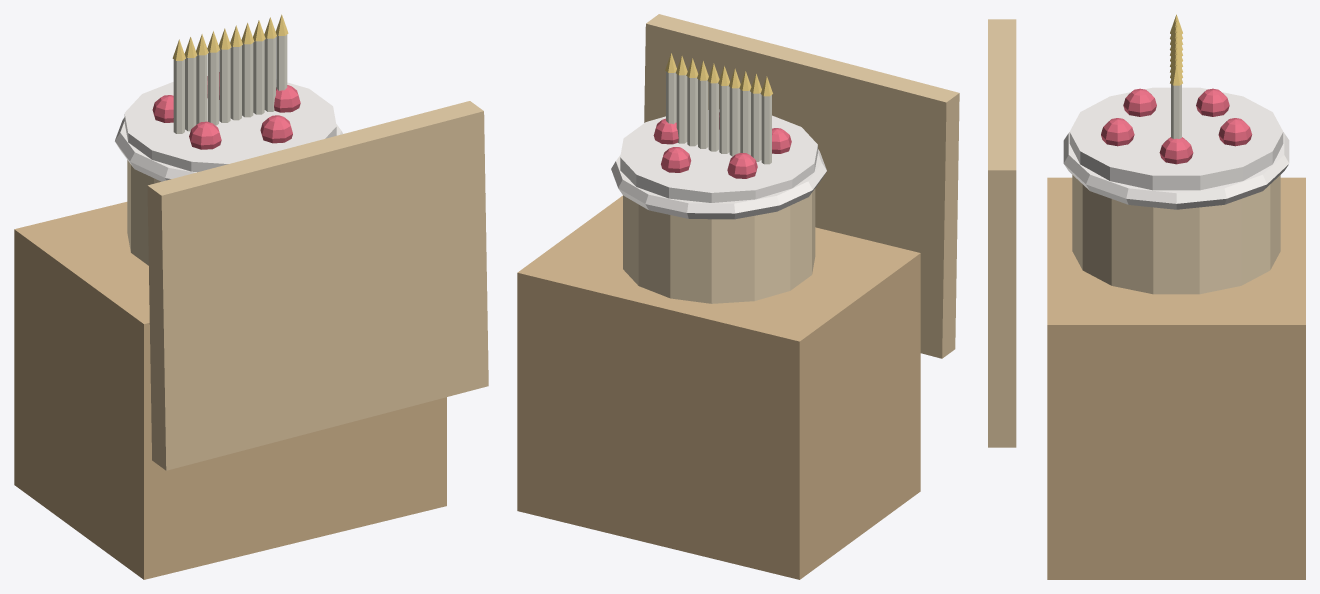
Rendered from cake_box_open.glb.
3 views of the same model, side by side, from view 1: azimuth 30°, elevation 25°; view 2: azimuth 150°, elevation 25°; view 3: azimuth 270°, elevation 25° (orthographic). The views are drawn at different scales.
Parts seen in each view (by area): view 1: BoxLid, BoxBody, CreamTop, Cake, CreamWave, Candle7, Candle4, Candle6, Candle5, Candle0, Candle8, Candle1 (+5 smaller); view 2: BoxBody, BoxLid, Cake, CreamTop, CreamWave, Candle3, Candle8, Candle0, Candle5, Candle6, Candle7, Candle4 (+5 smaller); view 3: BoxBody, Cake, CreamTop, BoxLid, CreamWave, Berry2, Berry3, Berry1, Berry4, Berry0, Candle9.
Part boxes in pixels (x1,y1,x2,y2): BoxLid: (147,101,488,470); BoxBody: (14,202,446,579); CreamTop: (124,79,336,172); Cake: (127,160,160,265); CreamWave: (115,117,343,181); Candle7: (253,40,264,114); Candle4: (219,48,230,122); Candle6: (242,43,253,117); Candle5: (230,45,241,120); Candle0: (173,59,184,133); Candle8: (264,37,275,111); Candle1: (185,57,196,131); BoxBody: (517,195,920,579); BoxLid: (644,14,959,358); Cake: (623,188,815,303); CreamTop: (620,109,817,202); CreamWave: (611,149,826,219); Candle3: (729,87,740,156); Candle8: (676,74,687,143); Candle0: (761,95,771,164); Candle5: (708,82,718,151); Candle6: (698,79,708,148); Candle7: (687,77,697,146); Candle4: (719,84,729,153); BoxBody: (1047,177,1305,579); Cake: (1072,175,1280,294); CreamTop: (1069,87,1283,190); BoxLid: (988,19,1016,447); CreamWave: (1063,132,1289,209); Berry2: (1196,88,1229,116); Berry3: (1123,88,1156,116); Berry1: (1218,118,1252,146); Berry4: (1101,118,1134,146); Berry0: (1159,137,1193,164); Candle9: (1171,84,1181,138).
Bounding box in the file's own units: 0.6694 × 0.917 × 0.565.
